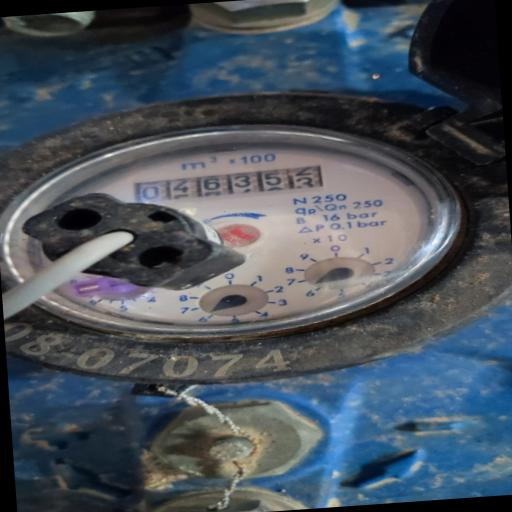0: (138, 183, 168, 202)
3: (229, 173, 257, 190), (290, 174, 318, 190)
4: (168, 178, 200, 196)
5: (260, 170, 290, 188)
6: (202, 176, 226, 192)
medida: (134, 165, 323, 204)
